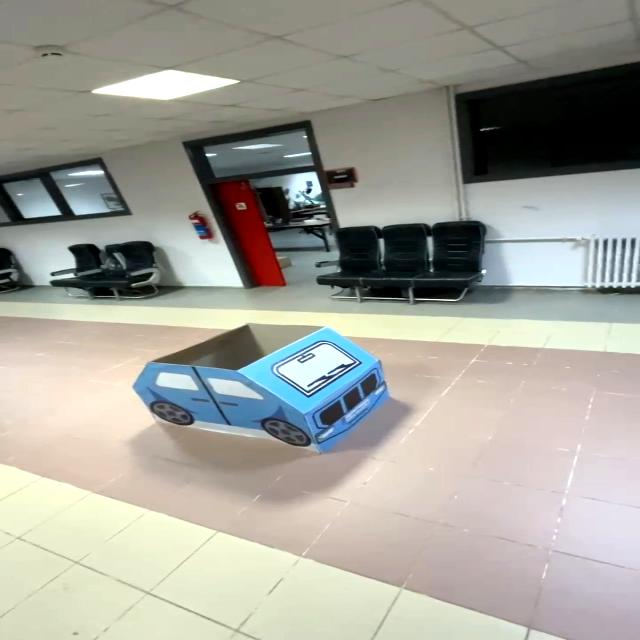blue_car: (117, 310, 418, 486)
